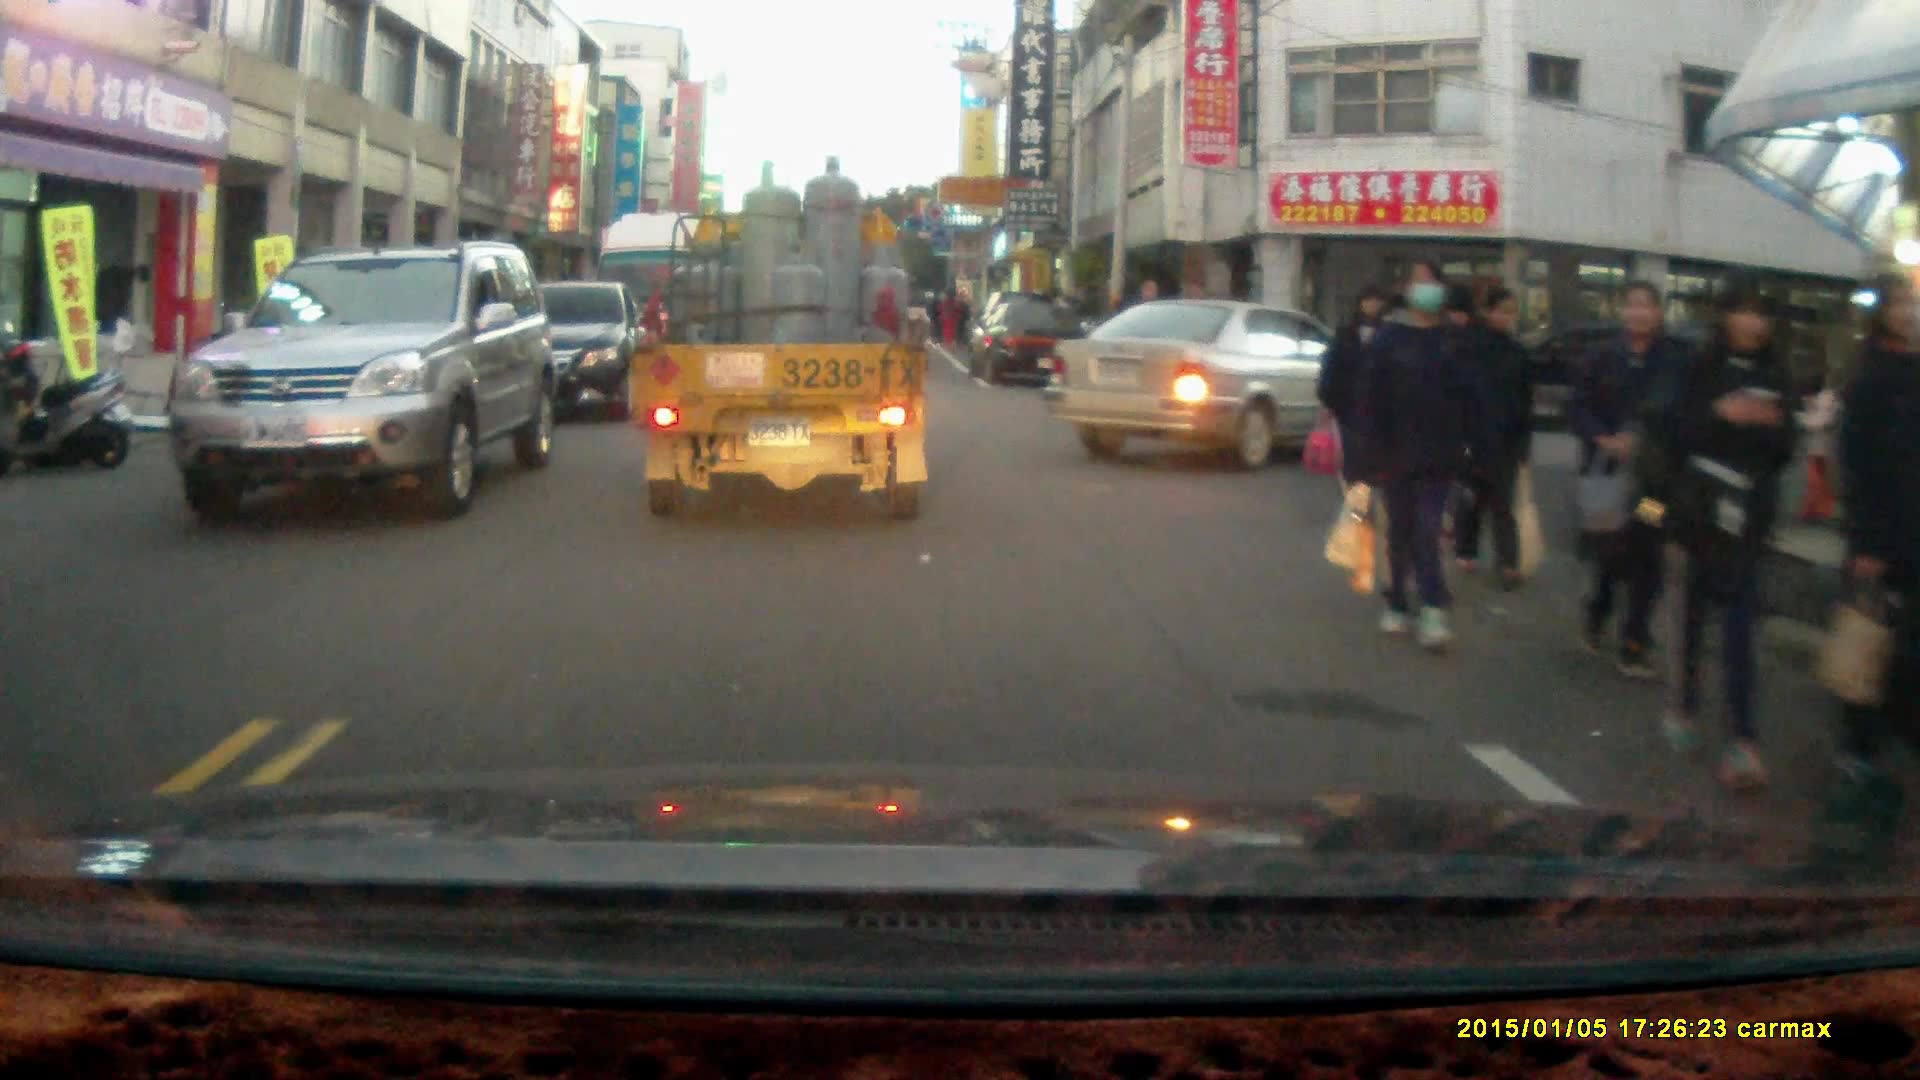pedestrian: (1655, 267, 1808, 790), (1363, 254, 1508, 660), (1567, 274, 1700, 689), (1828, 272, 1920, 831), (1443, 276, 1538, 591), (1314, 284, 1401, 539)
vehicle: (627, 153, 939, 518), (169, 239, 558, 515), (1043, 300, 1419, 470), (445, 282, 654, 427), (594, 209, 748, 395), (977, 294, 1095, 389)
